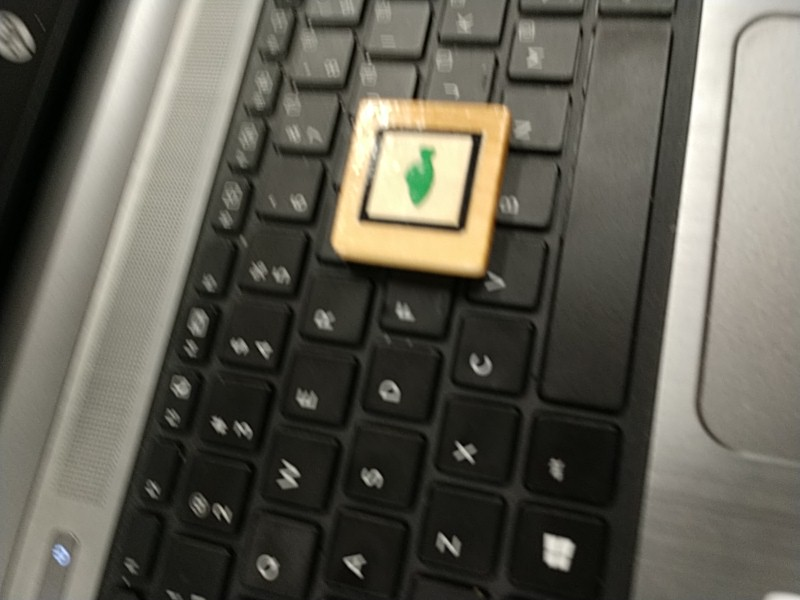Fish Tile: (357, 128, 486, 236)
